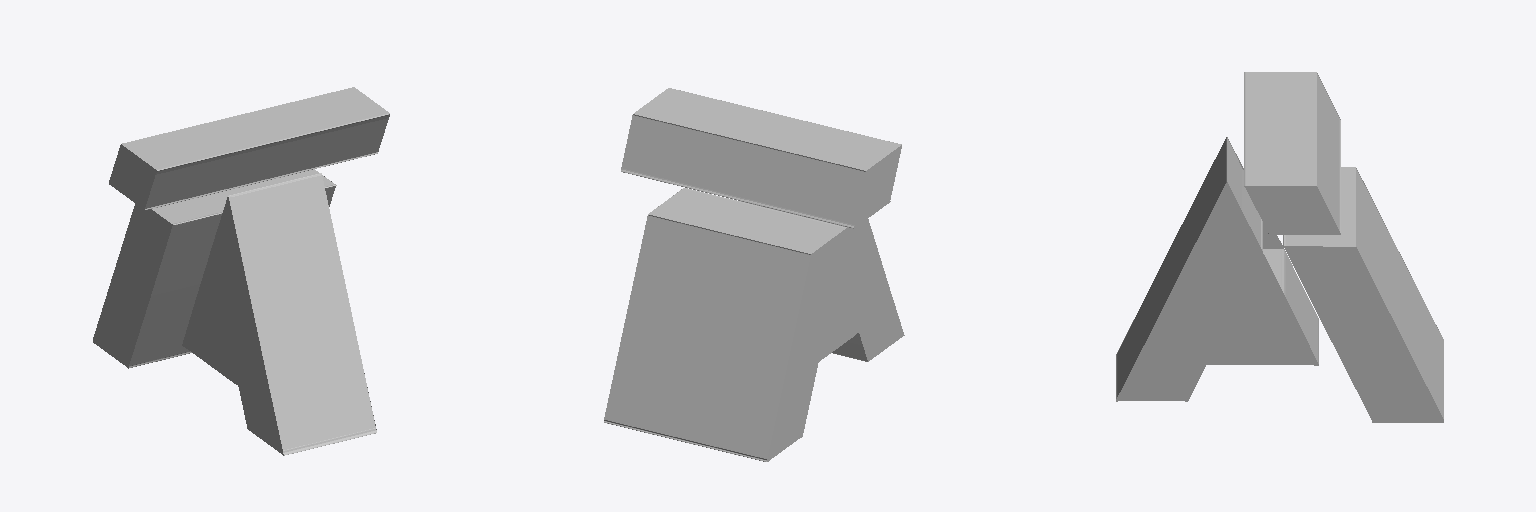
File: andtek.obj
The picture shows the model from 3 angles: view 1: azimuth 30°, elevation 25°; view 2: azimuth 150°, elevation 25°; view 3: azimuth 270°, elevation 25°; orthographic projection.
Parts seen in each view (by area): view 1: Line_+_Line, Point, Cap_1, Line, Cap_1_1, Cap_1_2; view 2: Line, Point, Cap_1, Cap_1_1, Cap_1_2, Line_+_Line; view 3: Cap_2, Cap_2_1, Point, Line, Line_+_Line, Cap_2_2.
Boxes of the visible parts, <box> form: Line_+_Line: <box>228,173,376,455</box>; Point: <box>122,87,389,209</box>; Cap_1: <box>182,197,283,455</box>; Line: <box>129,169,336,367</box>; Cap_1_1: <box>93,204,172,368</box>; Cap_1_2: <box>109,144,156,209</box>; Line: <box>604,188,846,461</box>; Point: <box>621,88,901,228</box>; Cap_1: <box>819,219,904,361</box>; Cap_1_1: <box>767,228,847,461</box>; Cap_1_2: <box>854,145,901,228</box>; Line_+_Line: <box>741,201,867,361</box>; Cap_2: <box>1116,182,1318,401</box>; Cap_2_1: <box>1284,246,1443,422</box>; Point: <box>1244,72,1340,233</box>; Line: <box>1283,167,1443,418</box>; Line_+_Line: <box>1116,137,1318,398</box>; Cap_2_2: <box>1244,186,1340,234</box>.
Size of the model in its own units: 0.1 by 0.104 by 0.122.